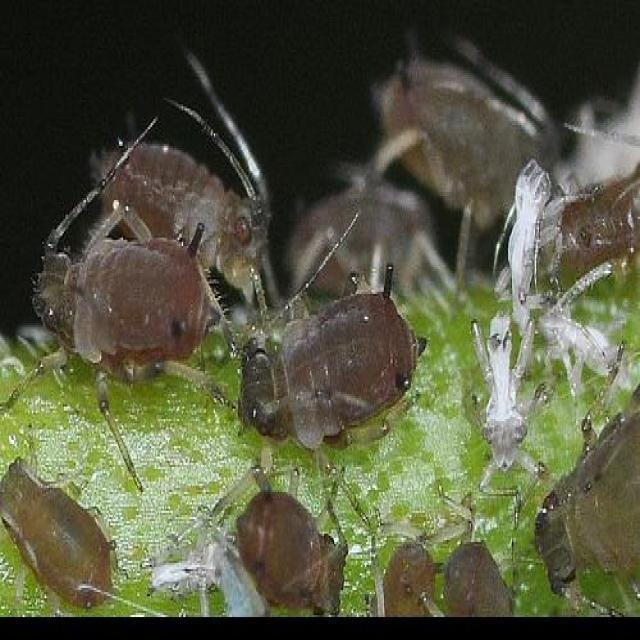aphid: (73, 77, 296, 334), (193, 266, 453, 472), (32, 179, 234, 419)
